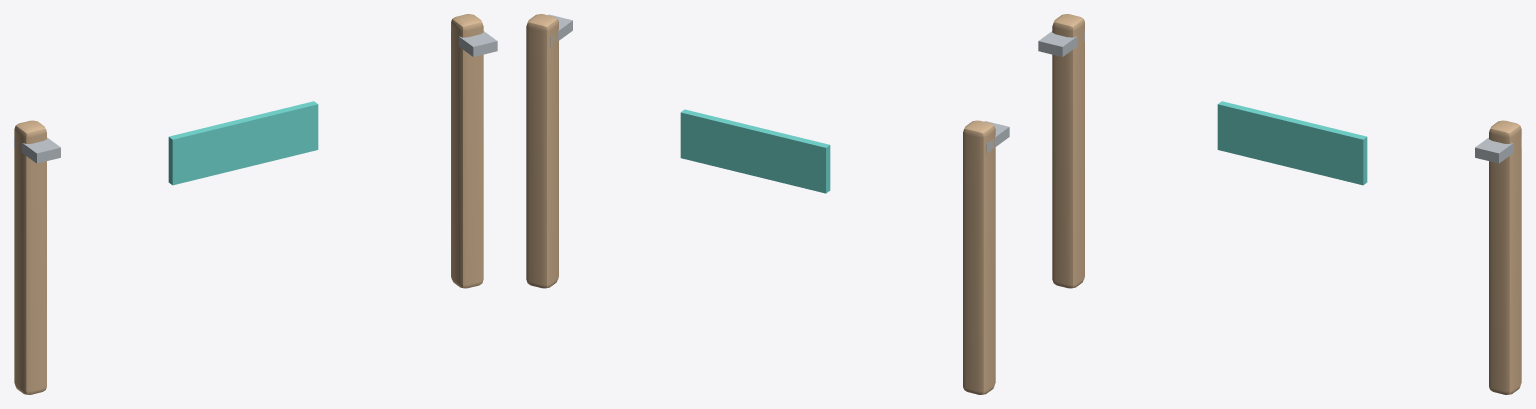
File: SkimmerRack.fbx
The picture shows the model from 3 angles, left to right: view 1: azimuth 30°, elevation 25°; view 2: azimuth 150°, elevation 25°; view 3: azimuth 330°, elevation 25°; orthographic projection.
Visible parts, largest first — view 1: SkimmerRack; view 2: SkimmerRack; view 3: SkimmerRack.
Part boxes in pixels (x1,y1,x2,y2): SkimmerRack: (14, 14, 497, 394); SkimmerRack: (526, 14, 1009, 394); SkimmerRack: (1038, 14, 1521, 394).
Size of the model in its own units: 1.9 by 1.05 by 0.185.
